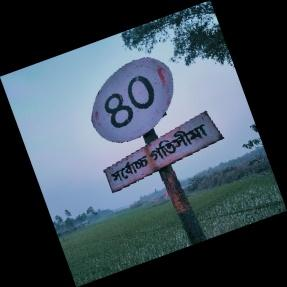Speed-limit: (91, 57, 227, 198)
